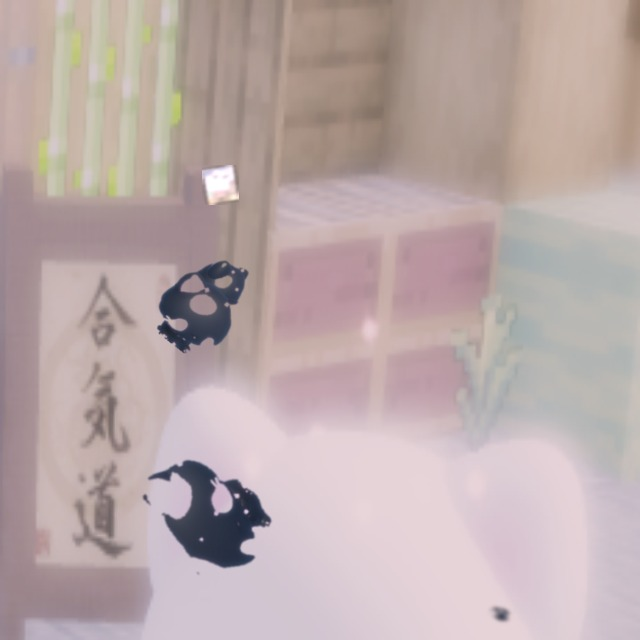urso_branco: (202, 165, 239, 205)
urso_preto: (106, 411, 310, 616), (139, 231, 277, 372), (486, 602, 515, 628)
